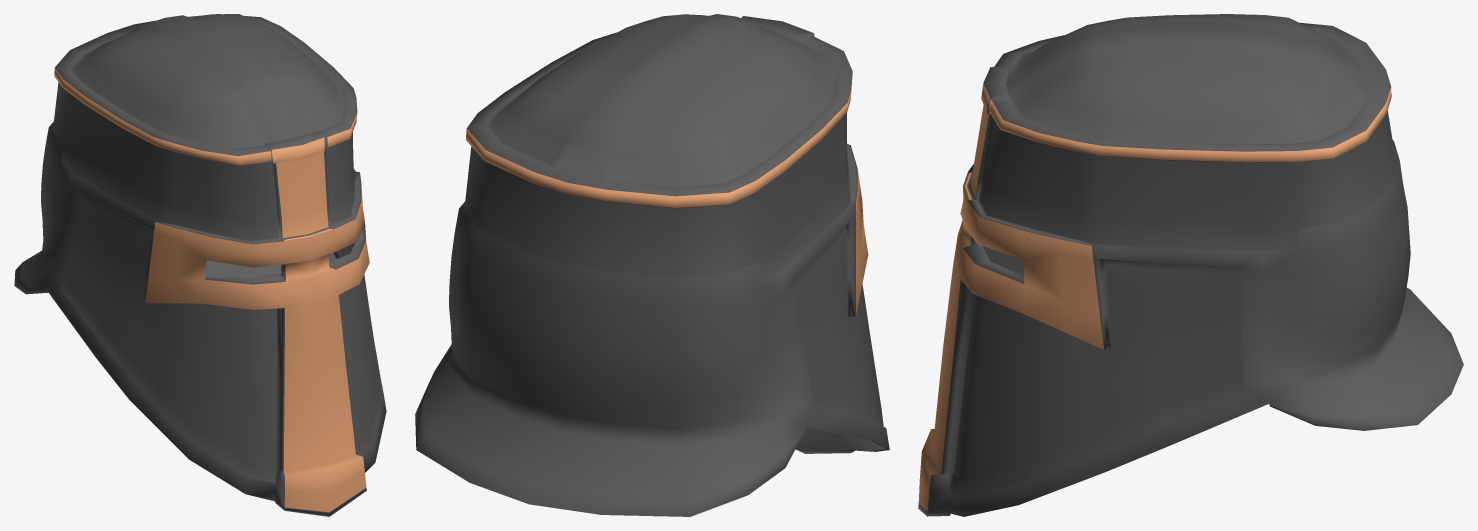
Rendered from helmet.fbx.
The picture shows the model from 3 angles, left to right: view 1: azimuth 30°, elevation 25°; view 2: azimuth 150°, elevation 25°; view 3: azimuth 270°, elevation 25°; orthographic projection. The views are drawn at different scales.
Visible parts, largest first — view 1: Helmet; view 2: Helmet; view 3: Helmet.
Boxes of the visible parts, x1,y1,x2,y2 form: Helmet: (14,14,386,516); Helmet: (415,14,889,516); Helmet: (918,14,1463,516).
Size of the model in its own units: 18.78 by 25.27 by 26.34.
